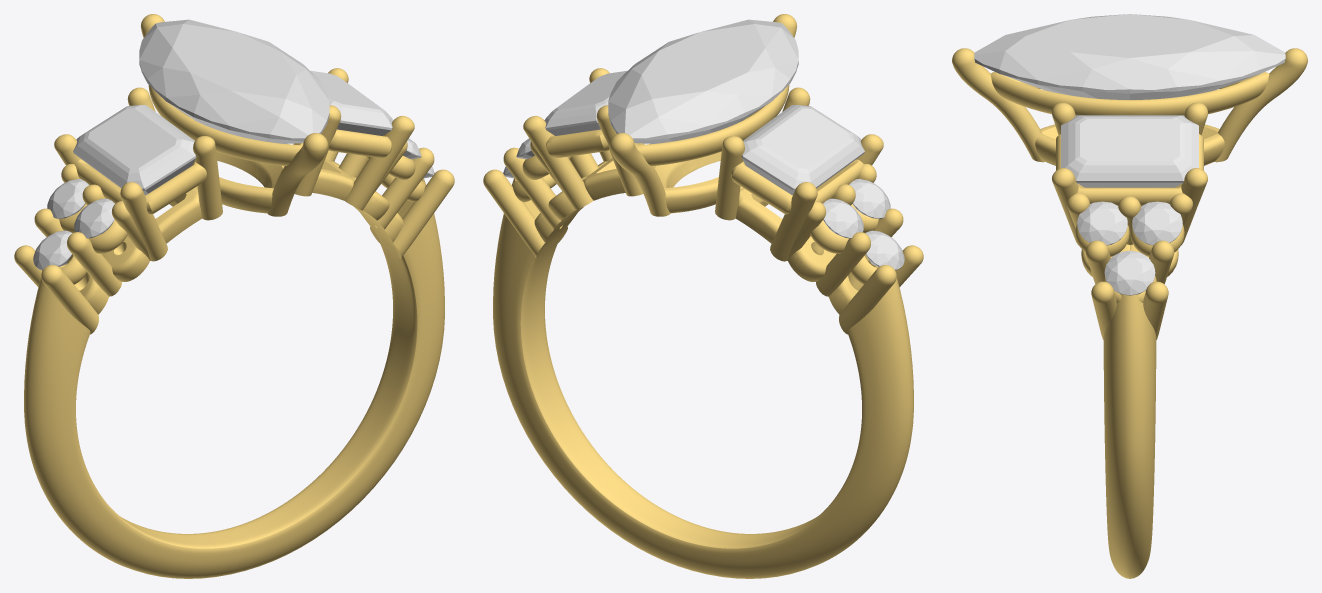
File: JackYGeng_blender.glb
3 views of the same model, side by side, from view 1: azimuth 30°, elevation 25°; view 2: azimuth 150°, elevation 25°; view 3: azimuth 270°, elevation 25° (orthographic).
Parts seen in each view (by area): view 1: Jack YG for 3d model, Jack dia center for 3d model, Jack dia em for 3d model.001, Jack dia em for 3d model, Jack dia rounds for 3d model.005, Jack dia rounds for 3d model.003, Jack dia rounds for 3d model.004; view 2: Jack YG for 3d model, Jack dia center for 3d model, Jack dia em for 3d model.001, Jack dia em for 3d model, Jack dia rounds for 3d model.003, Jack dia rounds for 3d model.005, Jack dia rounds for 3d model.004; view 3: Jack YG for 3d model, Jack dia center for 3d model, Jack dia em for 3d model, Jack dia rounds for 3d model.001, Jack dia rounds for 3d model, Jack dia rounds for 3d model.002.
Part boxes in pixels (bbox=[...]): Jack YG for 3d model: bbox=[14, 14, 454, 578]; Jack dia center for 3d model: bbox=[139, 19, 329, 143]; Jack dia em for 3d model.001: bbox=[73, 105, 196, 195]; Jack dia em for 3d model: bbox=[310, 70, 393, 135]; Jack dia rounds for 3d model.005: bbox=[74, 198, 114, 238]; Jack dia rounds for 3d model.003: bbox=[47, 179, 89, 218]; Jack dia rounds for 3d model.004: bbox=[33, 230, 72, 270]; Jack YG for 3d model: bbox=[483, 14, 923, 578]; Jack dia center for 3d model: bbox=[608, 19, 798, 143]; Jack dia em for 3d model.001: bbox=[741, 105, 864, 195]; Jack dia em for 3d model: bbox=[544, 70, 627, 135]; Jack dia rounds for 3d model.003: bbox=[823, 198, 863, 238]; Jack dia rounds for 3d model.005: bbox=[849, 179, 890, 218]; Jack dia rounds for 3d model.004: bbox=[865, 230, 904, 270]; Jack YG for 3d model: bbox=[952, 48, 1307, 578]; Jack dia center for 3d model: bbox=[974, 14, 1285, 99]; Jack dia em for 3d model: bbox=[1061, 115, 1198, 187]; Jack dia rounds for 3d model.001: bbox=[1104, 250, 1155, 295]; Jack dia rounds for 3d model: bbox=[1132, 201, 1182, 245]; Jack dia rounds for 3d model.002: bbox=[1077, 201, 1127, 245].
Size of the model in its own units: 21.34 by 24.98 by 15.51.
